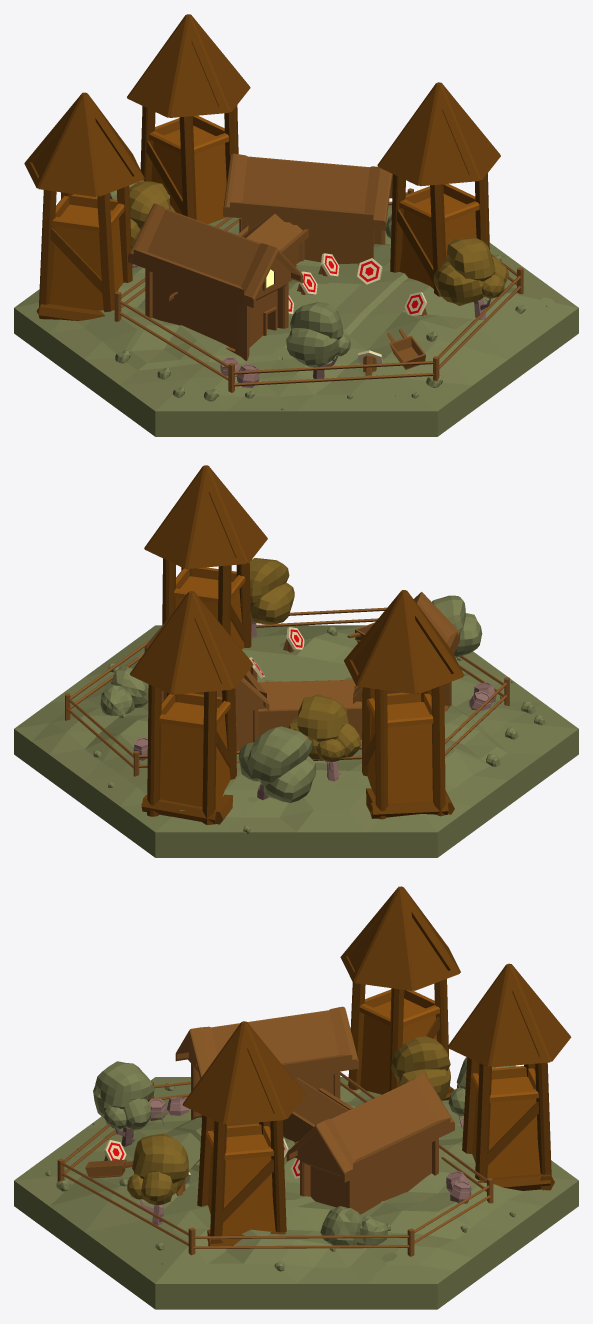
The model's file is archer_range.glb.
The picture shows the model from 3 angles, top to bottom: view 1: azimuth 30°, elevation 25°; view 2: azimuth 150°, elevation 25°; view 3: azimuth 270°, elevation 25°; orthographic projection.
Parts seen in each view (by area): view 1: building, land, big_details, small_details; view 2: building, land, big_details, small_details; view 3: building, land, big_details, small_details.
Part boxes in pixels (x1,y1,x2,y2): building: (24,14,523,392); land: (14,205,578,436); big_details: (109,180,509,387); small_details: (72,255,555,410); building: (65,465,509,824); land: (14,625,578,857); big_details: (100,558,496,802); small_details: (64,626,545,833); building: (57,886,571,1256); land: (14,1077,578,1309); big_details: (85,1036,516,1245); small_details: (45,1082,515,1271).
Bounding box in the file's own units: 1.74 × 0.9389 × 2.
